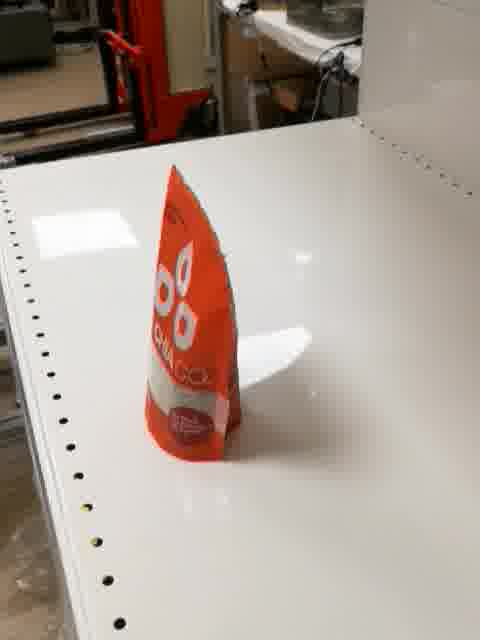whitechia: (141, 162, 251, 466)
